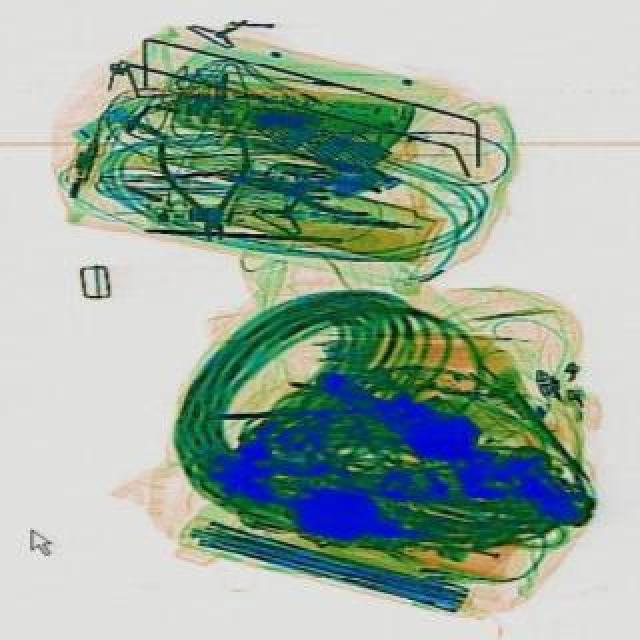wrench: (152, 134, 260, 246), (210, 154, 380, 220)
